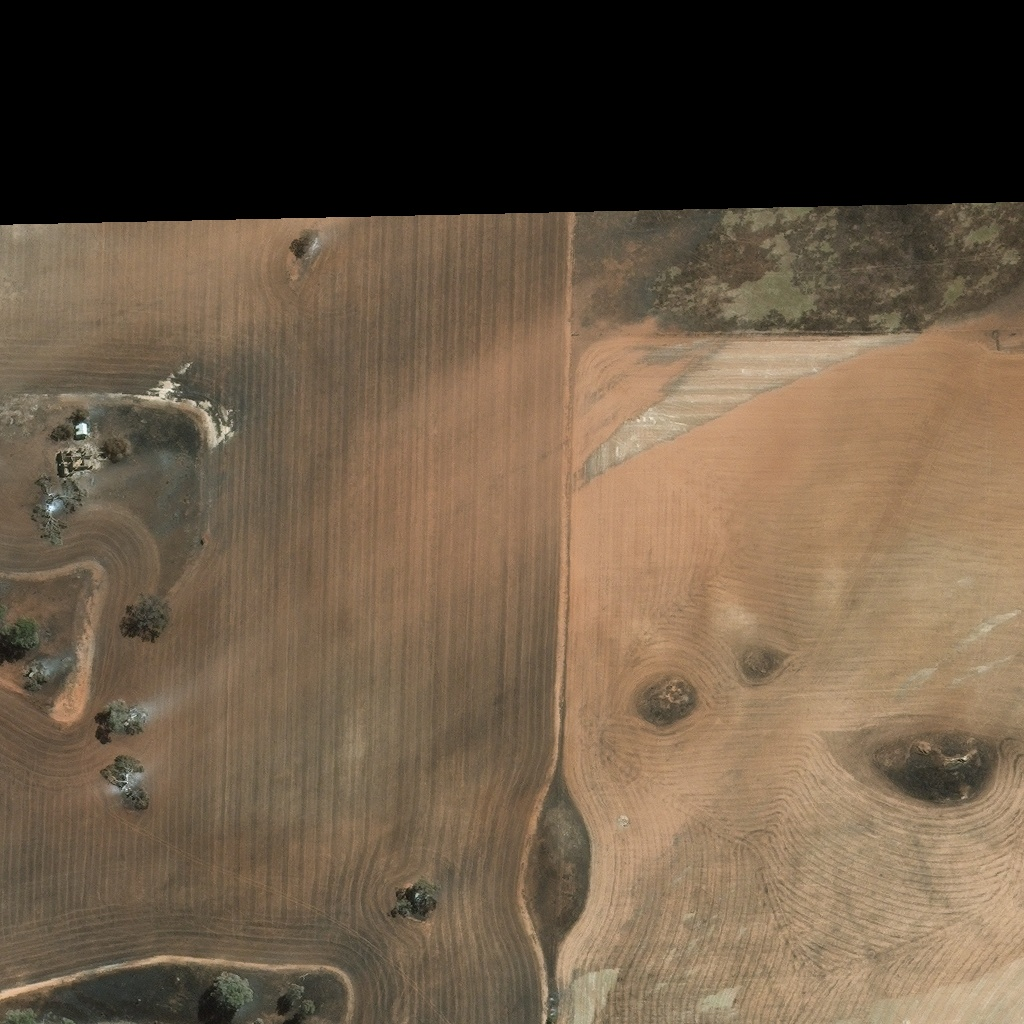1 minor-damage: (73, 430, 85, 443)
3 destroyed: (58, 464, 70, 482), (69, 464, 80, 475), (68, 455, 80, 464), (81, 463, 90, 474), (57, 456, 68, 464), (81, 455, 89, 463)
